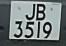1: (35, 20, 43, 40)
3: (13, 19, 25, 40)
5: (23, 20, 37, 40)
9: (42, 21, 54, 41)
B: (35, 2, 48, 22)
J: (24, 3, 36, 21)
